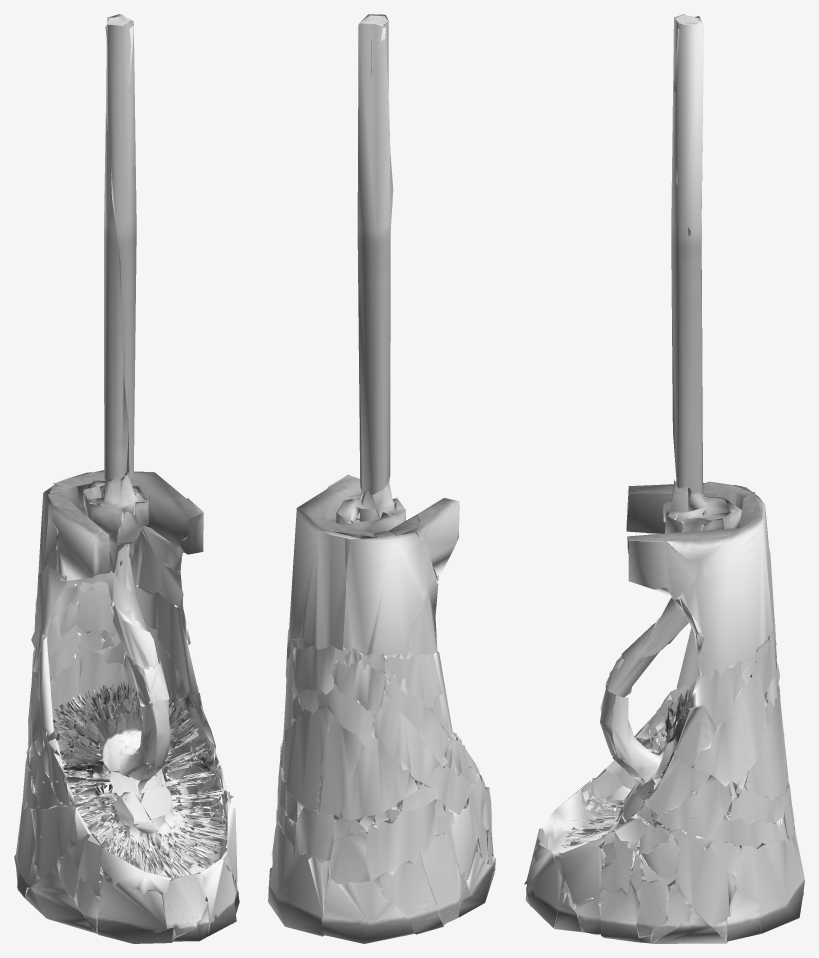
File: bath-toilet-brush.glb
The picture shows the model from 3 angles, left to right: view 1: azimuth 30°, elevation 25°; view 2: azimuth 150°, elevation 25°; view 3: azimuth 270°, elevation 25°; orthographic projection. The views are drawn at different scales.
Parts seen in each view (by area): view 1: Mesh_0; view 2: Mesh_0; view 3: Mesh_0.
Boxes of the visible parts, <box> form: Mesh_0: <box>14,14,239,943</box>; Mesh_0: <box>268,14,495,943</box>; Mesh_0: <box>524,14,804,943</box>.
Size of the model in its own units: 0.4181 by 1.91 by 0.5494.
Materials: 1 (1 with a texture image).
